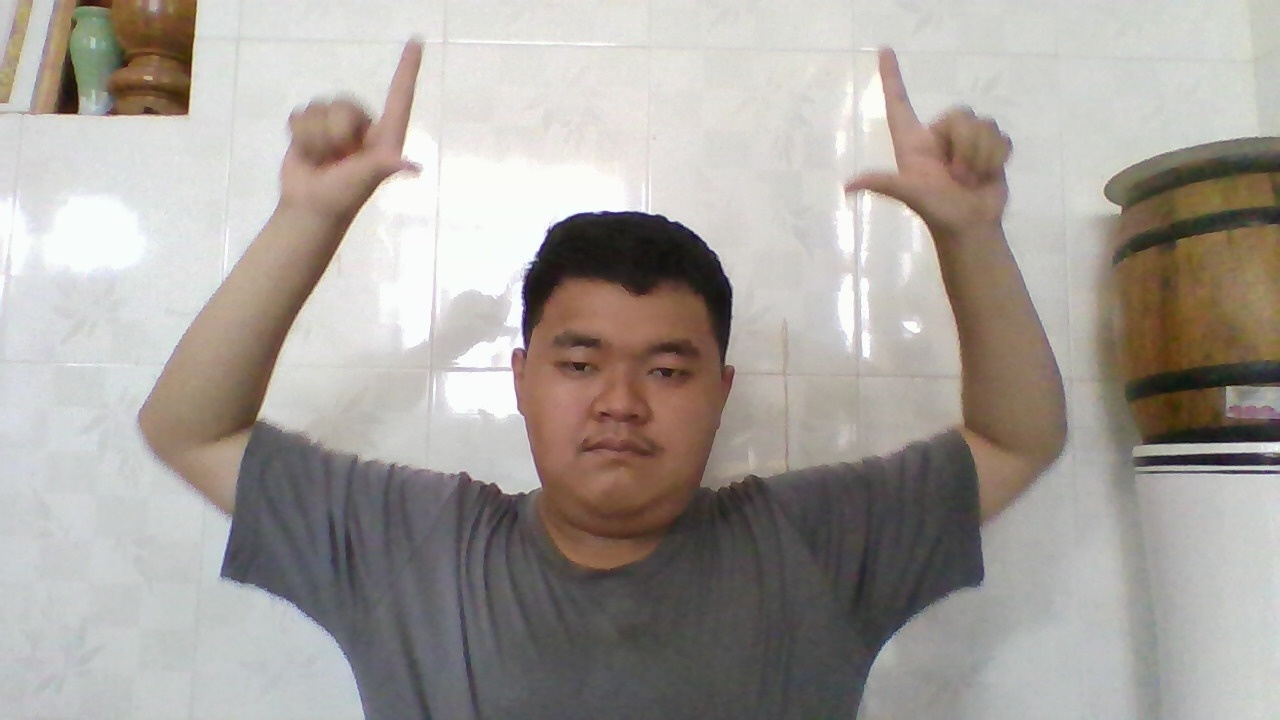L: (835, 36, 1018, 242), (280, 28, 429, 222)
